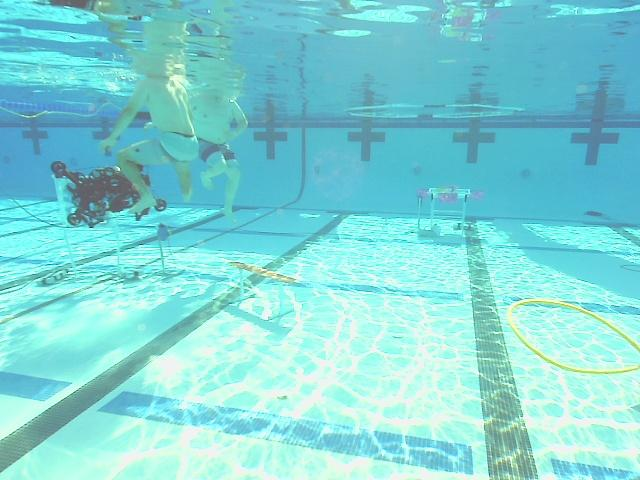table: (416, 184, 484, 239)
